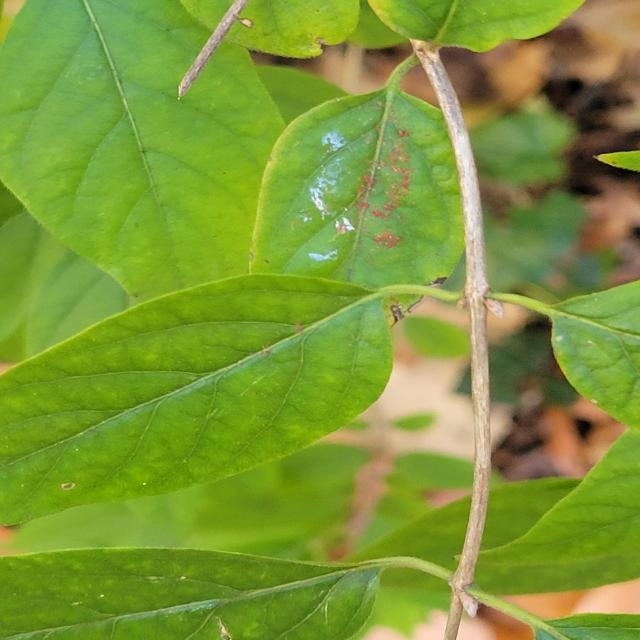powdery_mildew: (251, 62, 463, 288)
